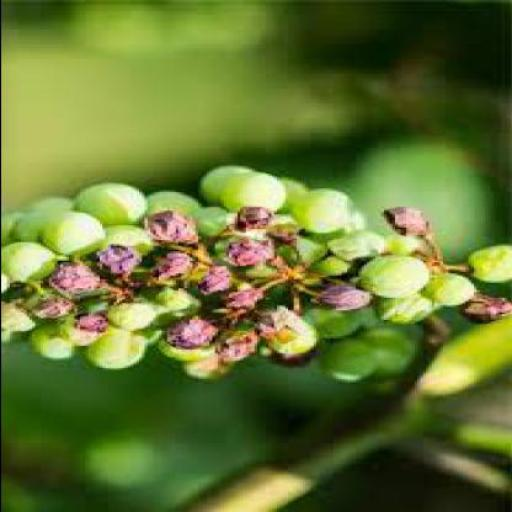biodegradable: (132, 279, 211, 324), (357, 252, 431, 296), (76, 182, 150, 224), (223, 168, 287, 215), (327, 332, 388, 379), (12, 194, 73, 240), (358, 331, 416, 379), (296, 186, 354, 231), (87, 326, 149, 368), (45, 211, 106, 251), (3, 241, 59, 281), (203, 163, 259, 203), (163, 313, 222, 347), (56, 257, 113, 292), (270, 316, 321, 354), (306, 212, 366, 244), (425, 270, 481, 304), (31, 320, 81, 358), (282, 233, 336, 268), (329, 229, 391, 258), (146, 210, 202, 242), (455, 290, 511, 322), (469, 241, 511, 283), (104, 298, 163, 327), (107, 220, 158, 253), (313, 285, 374, 311), (380, 294, 441, 320), (312, 311, 369, 338), (391, 202, 436, 236), (59, 314, 110, 344), (256, 305, 298, 340), (101, 242, 146, 274), (143, 188, 200, 213), (163, 333, 214, 360), (216, 325, 258, 357), (194, 204, 233, 238), (217, 286, 267, 312), (228, 237, 276, 264), (236, 205, 278, 234), (360, 372, 414, 394), (183, 357, 237, 379), (265, 220, 304, 249), (160, 248, 197, 275), (37, 296, 81, 318), (166, 283, 206, 307), (3, 210, 28, 248), (284, 174, 309, 210), (78, 311, 113, 333), (321, 254, 360, 272), (270, 352, 315, 366), (391, 233, 419, 253), (3, 272, 11, 287)
